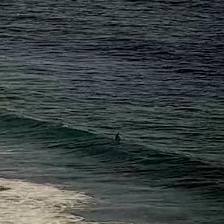surfer: (114, 133, 122, 141)
